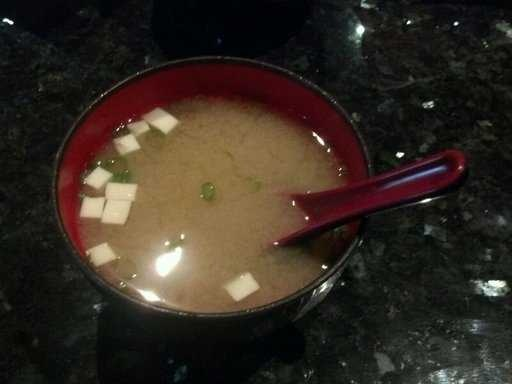soup: (61, 60, 363, 314)
